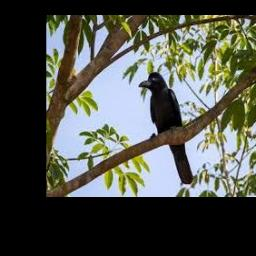Crow: (140, 72, 192, 185)
